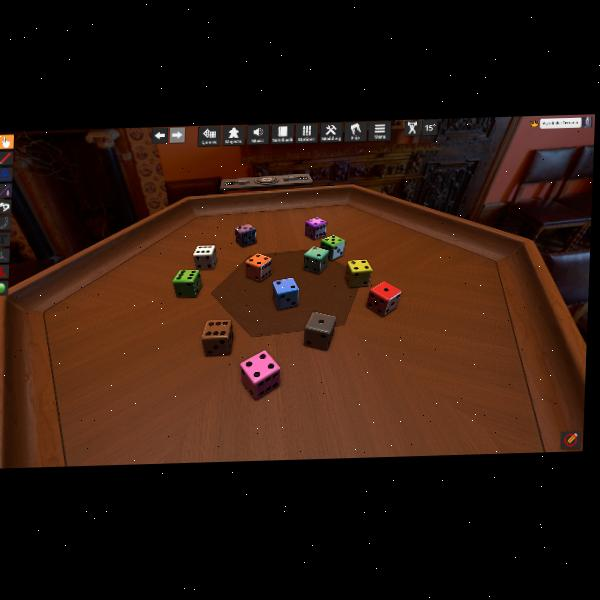d6: (238, 349, 281, 398), (303, 311, 336, 352), (201, 318, 234, 355), (366, 280, 399, 316), (271, 277, 298, 309), (244, 252, 272, 282), (172, 268, 200, 298), (303, 245, 329, 274), (346, 258, 372, 286), (320, 234, 345, 262), (191, 244, 215, 271), (235, 223, 257, 248), (305, 217, 327, 240)
